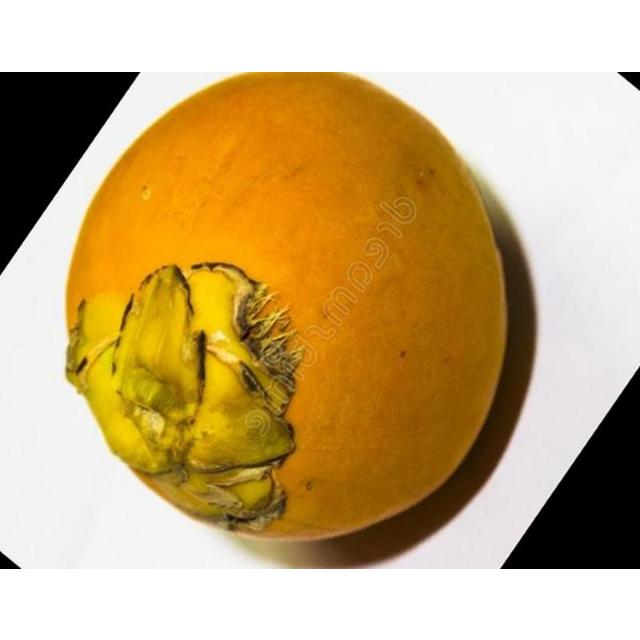good: (66, 71, 505, 538)
